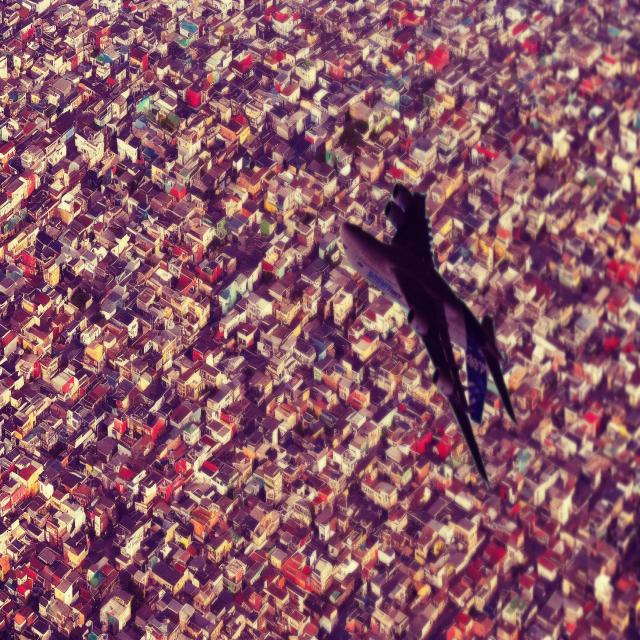airplane: (339, 179, 518, 489)
